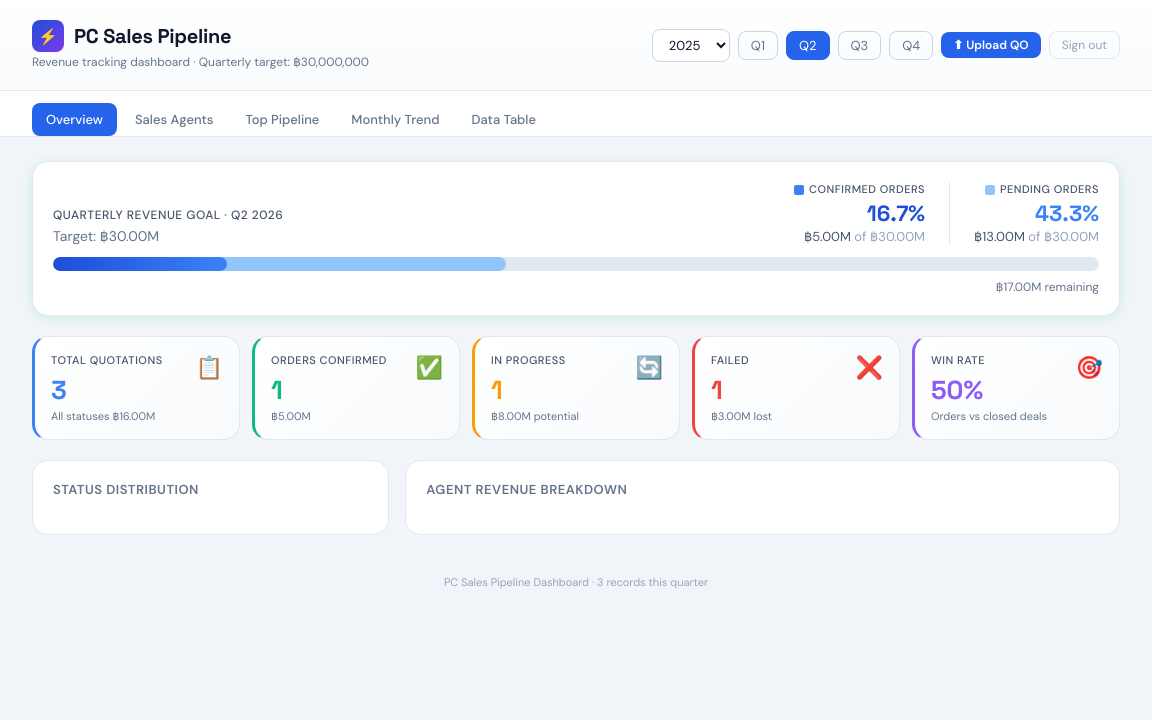
Test case: Dashboard › Sales Agents Tab › shows order/on-track/fail breakdown
This screenshot has width=1152, height=720.
Expected: the heading "PC Sales Pipeline" is shown, [74,23,231,49]
Click the button "Sales Agents" at [174, 120], box [121,103,228,136]
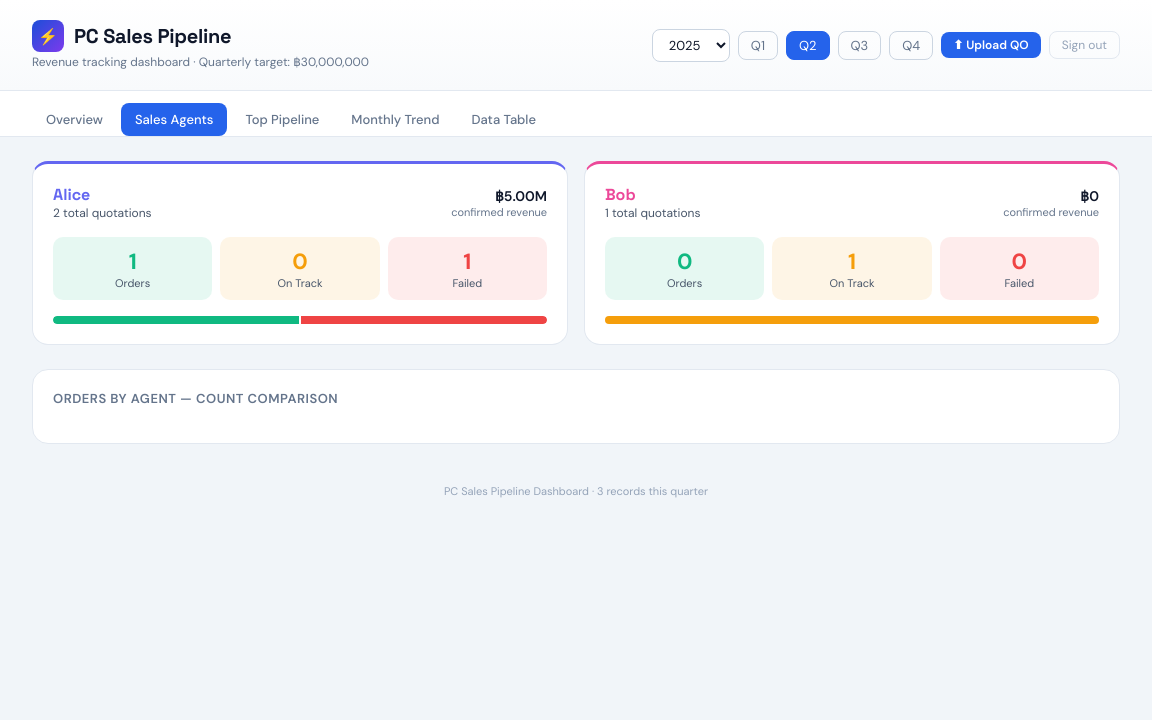
Expected: the text "Orders" below "Alice" is shown, [115,276,150,290]
Expected: the text "On Track" below "Alice" is shown, [277,276,323,290]
